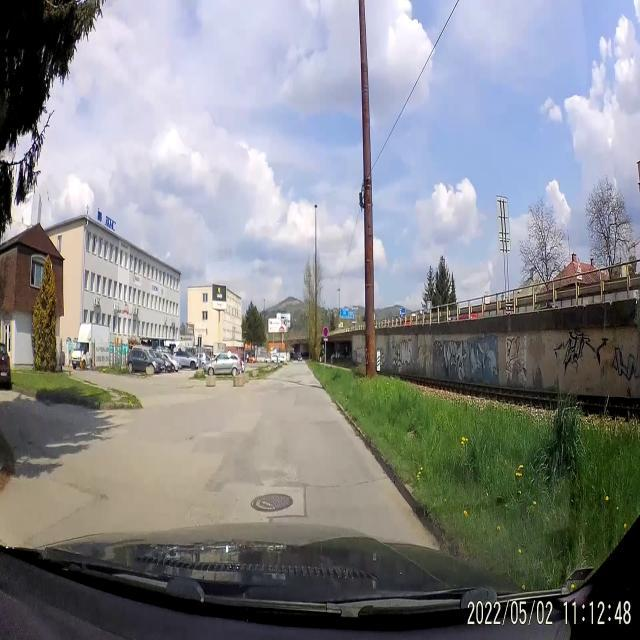Manhole: (248, 481, 298, 516)
Pothole: (182, 430, 196, 449), (177, 382, 202, 392)
